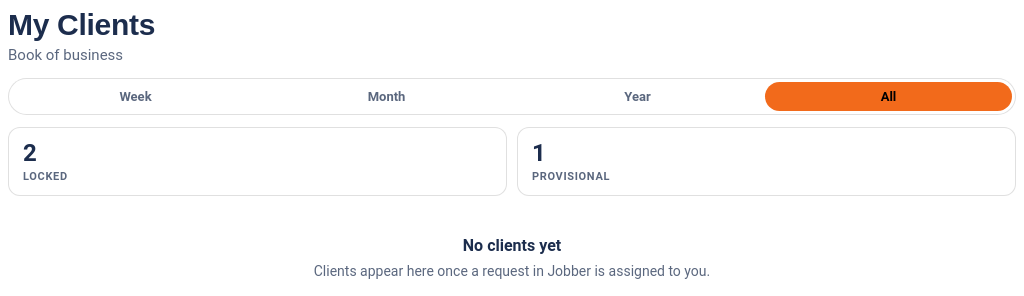
Canvass-9a — Clients: the window, the cards, and the row › ⚠ a WINDOWED empty result does not claim the book is empty
Expected: the text "No clients yet" is shown, [463,236,561,255]
Click the button "Week": click(136, 96) [12,82,259,111]
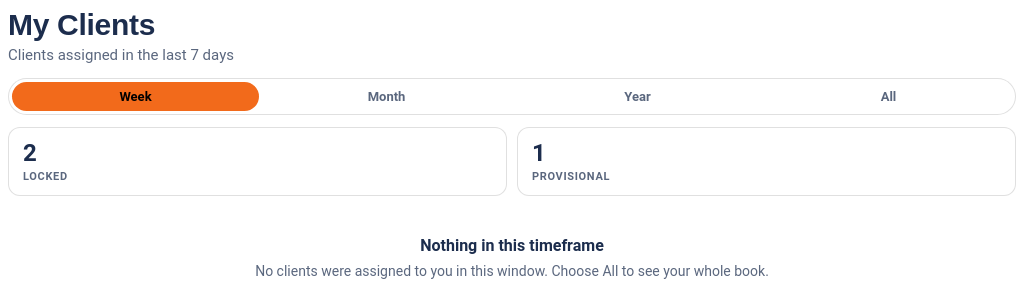
Result: the text "Nothing in this timeframe" is shown at [420,236,604,255]
Result: the text "No clients yet" is gone
Result: the text "Choose All to see your whole book" is shown at [255,263,769,279]
